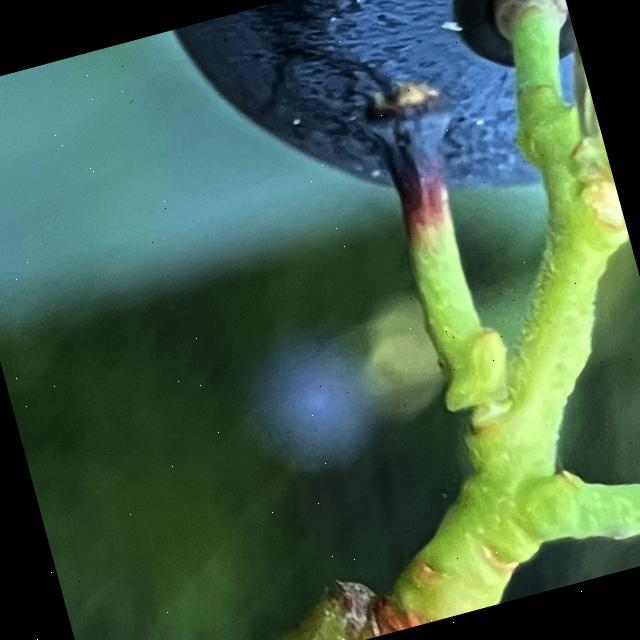Blueberries: (173, 0, 611, 272)
